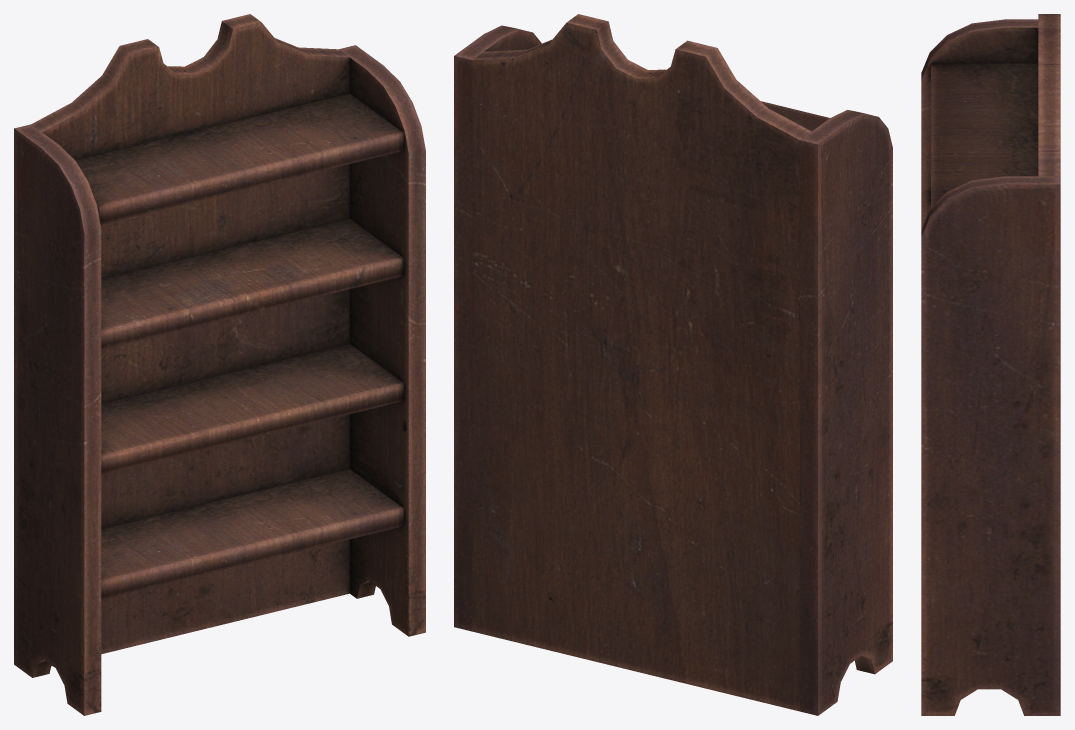
The model's file is shelf01.dae.
3 renders of one model, left to right at view 1: azimuth 30°, elevation 25°; view 2: azimuth 150°, elevation 25°; view 3: azimuth 270°, elevation 25°, orthographic. The views are drawn at different scales.
Visible parts, largest first — view 1: mesh_shelf01; view 2: mesh_shelf01; view 3: mesh_shelf01.
Part boxes in pixels (left/top/right/bottom): mesh_shelf01: left=14, top=14, right=425, bottom=715; mesh_shelf01: left=454, top=14, right=892, bottom=715; mesh_shelf01: left=921, top=14, right=1060, bottom=715.
Size of the model in its own units: 2 by 3.32 by 0.7112.
